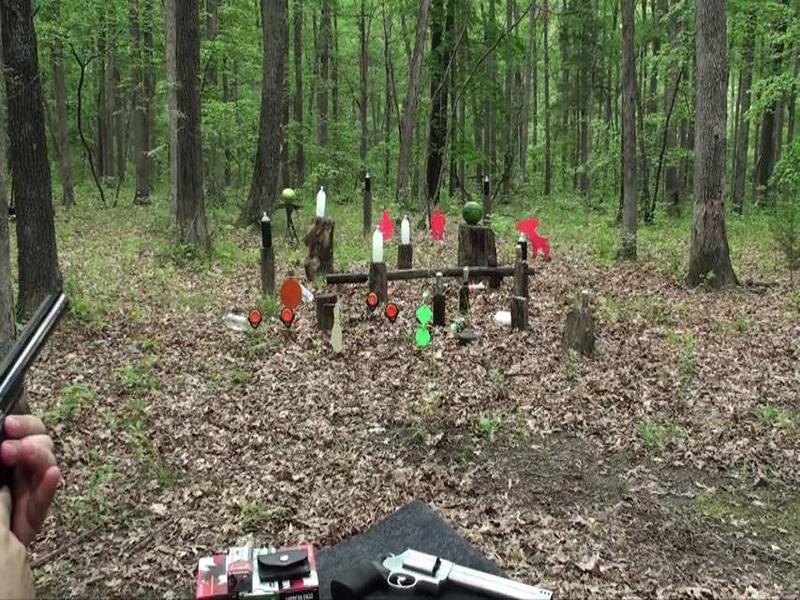Revolver: (311, 531, 568, 600)
